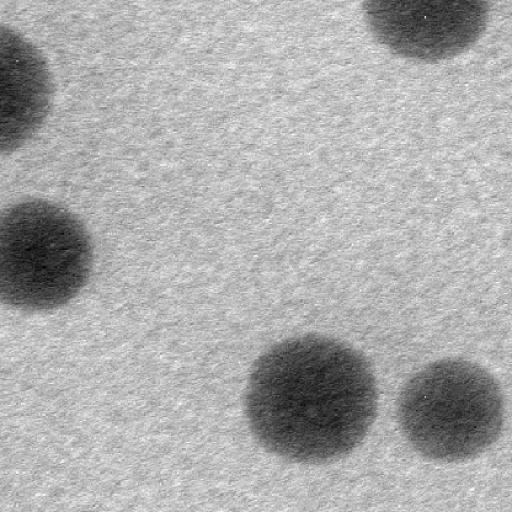Nanoparticles: (244, 324, 380, 472), (0, 197, 98, 316), (399, 356, 505, 466), (358, 1, 499, 66), (0, 22, 57, 166)
